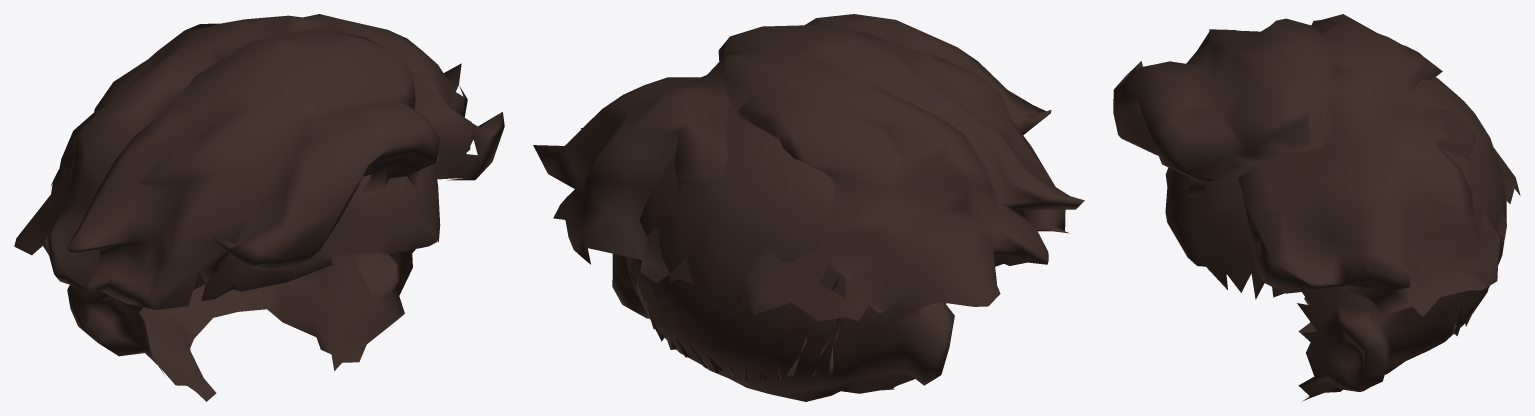
The model's file is waves.glb.
3 renders of one model, left to right at view 1: azimuth 30°, elevation 25°; view 2: azimuth 150°, elevation 25°; view 3: azimuth 270°, elevation 25°, orthographic. The views are drawn at different scales.
Visible parts, largest first — view 1: Hair, HairScalp; view 2: Hair, HairScalp, HairPulledRootStrands; view 3: Hair, HairScalp, HairPulledRootStrands.
Part boxes in pixels (bbox=[...]): Hair: bbox=[14, 14, 504, 309]; HairScalp: bbox=[67, 163, 440, 401]; Hair: bbox=[533, 14, 1084, 320]; HairScalp: bbox=[612, 107, 954, 401]; HairPulledRootStrands: bbox=[626, 229, 844, 380]; Hair: bbox=[1113, 14, 1520, 316]; HairScalp: bbox=[1165, 77, 1506, 401]; HairPulledRootStrands: bbox=[1238, 163, 1489, 336].
Bounding box in the file's own units: 0.6447 × 0.4467 × 0.4983.
